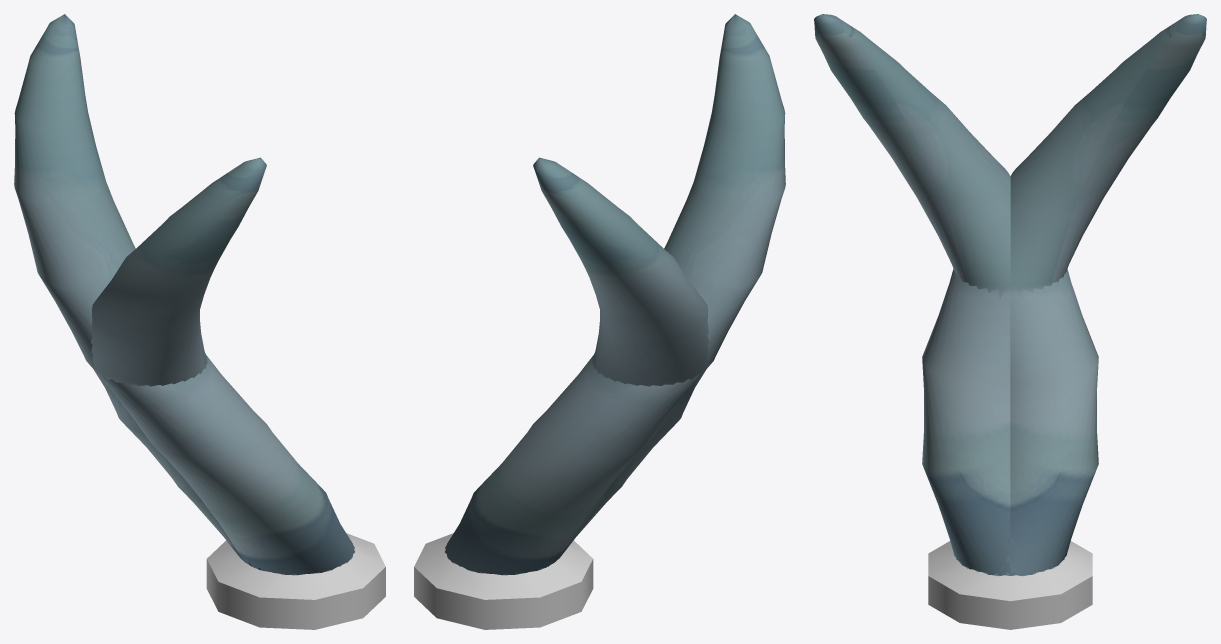
File: SM_CT_Entrance.FBX
3 renders of one model, left to right at view 1: azimuth 30°, elevation 25°; view 2: azimuth 150°, elevation 25°; view 3: azimuth 270°, elevation 25°, orthographic. The views are drawn at different scales.
Parts seen in each view (by area): view 1: SM_CT_EntrancePiR, SM_CT_EntrancePiL; view 2: SM_CT_EntrancePiL, SM_CT_EntrancePiR; view 3: SM_CT_EntrancePiL, SM_CT_EntrancePiR.
Part boxes in pixels (bbox=[...]): SM_CT_EntrancePiR: bbox=[14, 14, 354, 610]; SM_CT_EntrancePiL: bbox=[90, 157, 385, 629]; SM_CT_EntrancePiL: bbox=[414, 14, 785, 610]; SM_CT_EntrancePiR: bbox=[414, 157, 709, 629]; SM_CT_EntrancePiL: bbox=[814, 14, 1098, 629]; SM_CT_EntrancePiR: bbox=[922, 14, 1206, 629].
Bounding box in the file's own units: 98.14 × 167 × 115.
